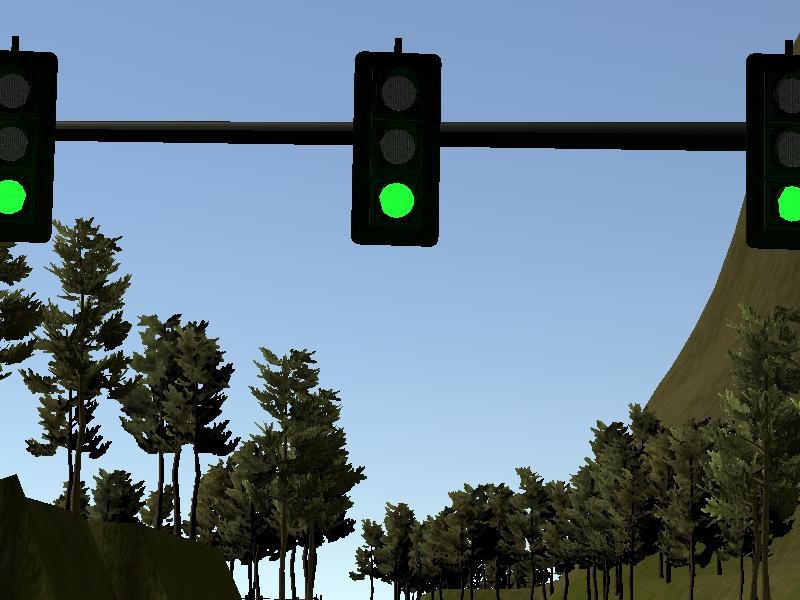traffic_light_green: (1, 29, 800, 249)
